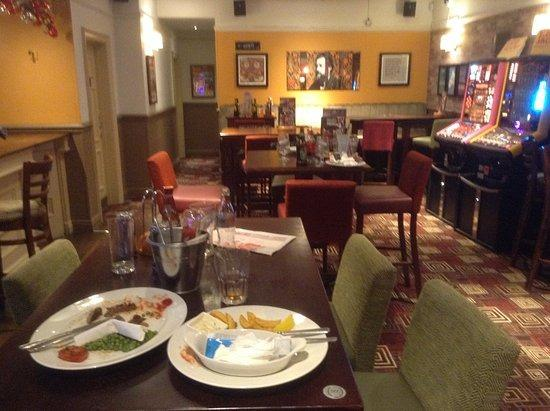Messy Table: (0, 181, 382, 411)
